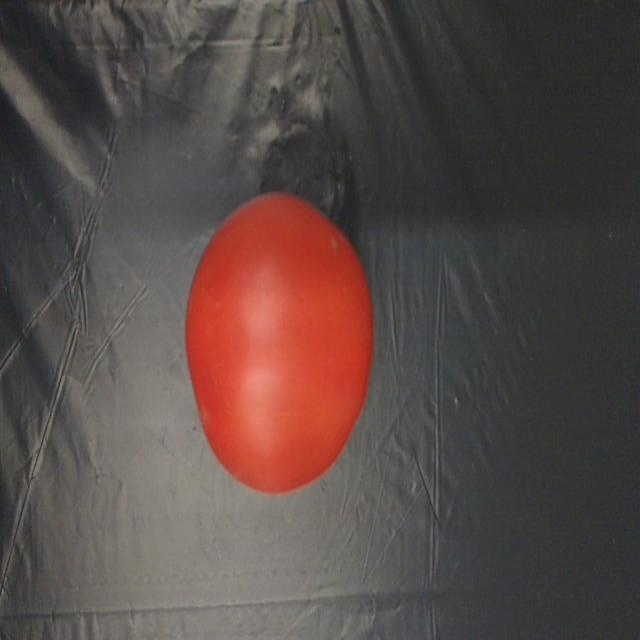kirmizi: (183, 194, 373, 501)
